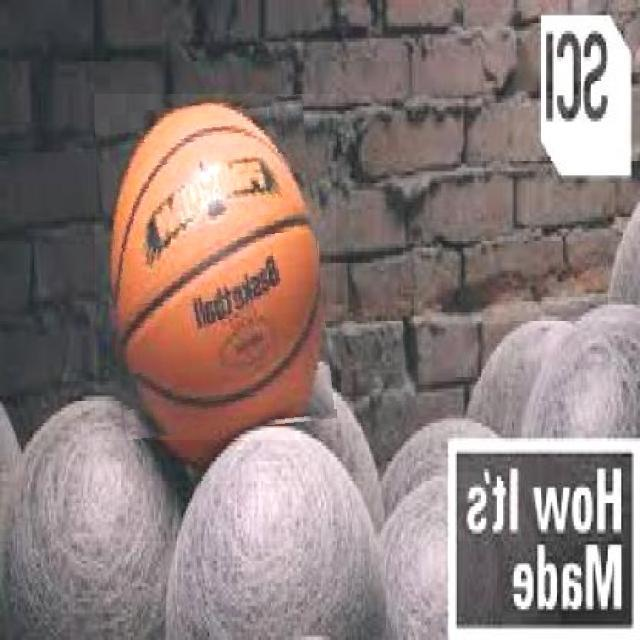Ball: (95, 95, 335, 440)
